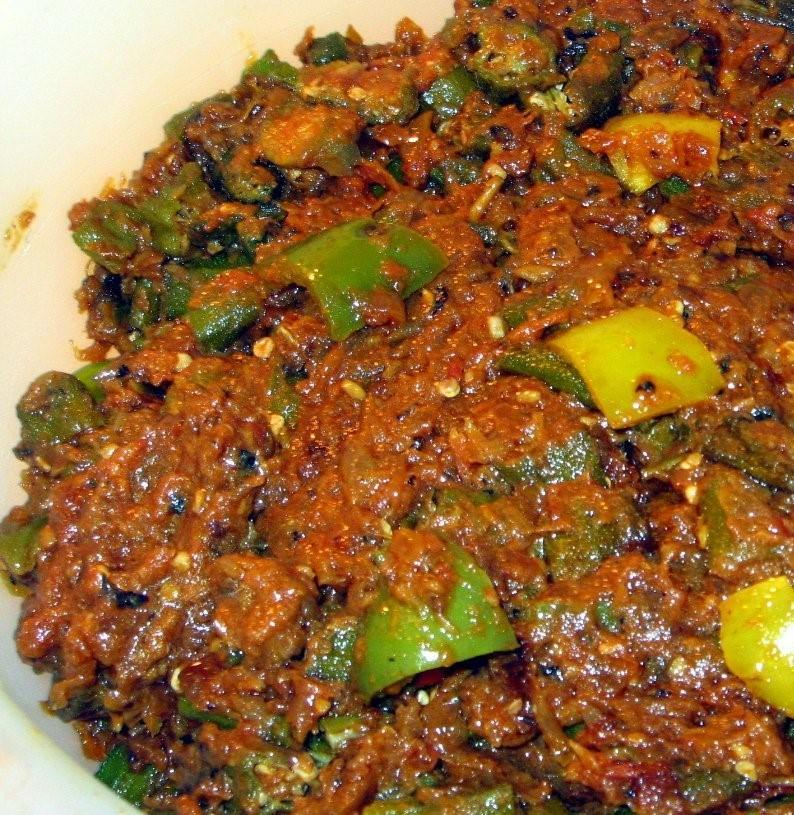BhindiMasala: (3, 0, 794, 815)
